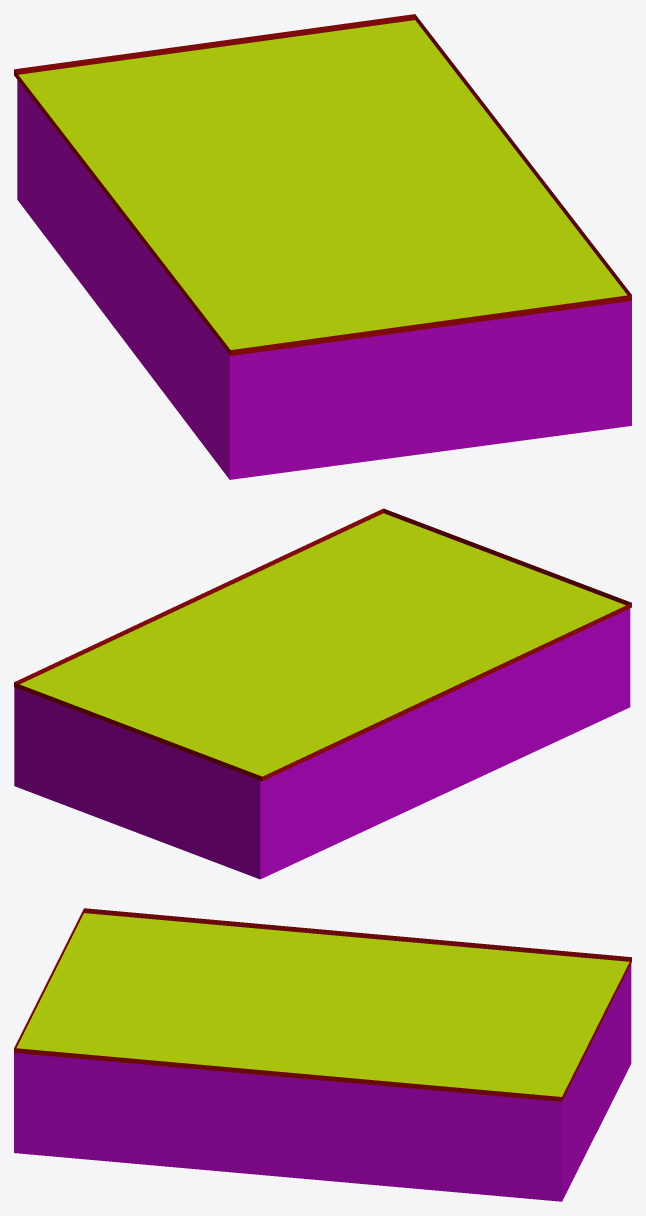
Rendered from rmc_113.glb.
3 renders of one model, top to bottom at view 1: azimuth 30°, elevation 25°; view 2: azimuth 150°, elevation 25°; view 3: azimuth 270°, elevation 25°, orthographic. The views are drawn at different scales.
Visible parts, largest first — view 1: rmc_113; view 2: rmc_113; view 3: rmc_113.
Boxes of the visible parts, bbox=[...] form: rmc_113: bbox=[14, 14, 631, 479]; rmc_113: bbox=[14, 508, 631, 879]; rmc_113: bbox=[14, 908, 631, 1201].
Size of the model in its own units: 29.28 by 7.59 by 40.5.
